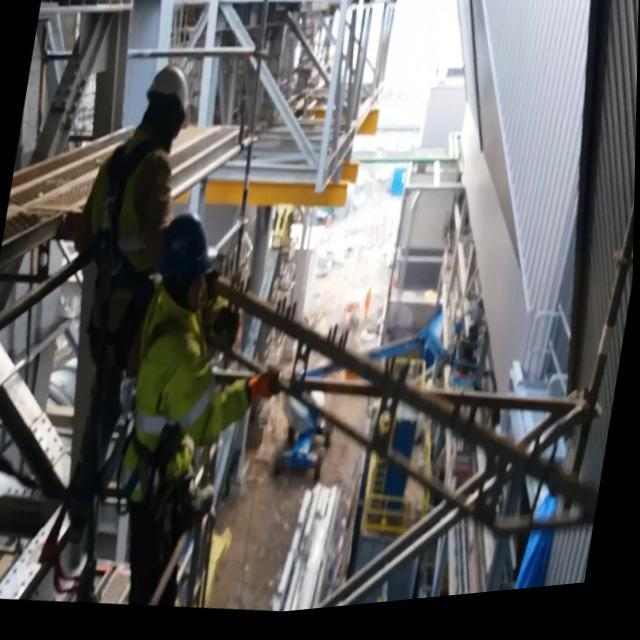belt: (59, 130, 180, 418), (101, 287, 223, 523)
